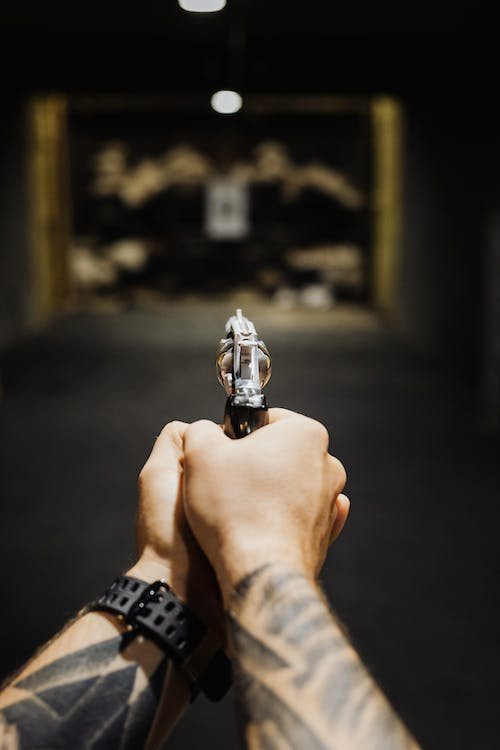gun: (212, 304, 276, 443)
